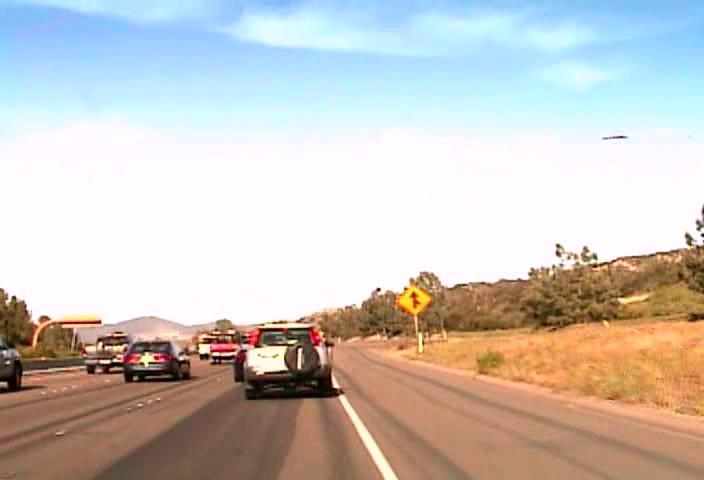merge: (395, 282, 432, 316)
